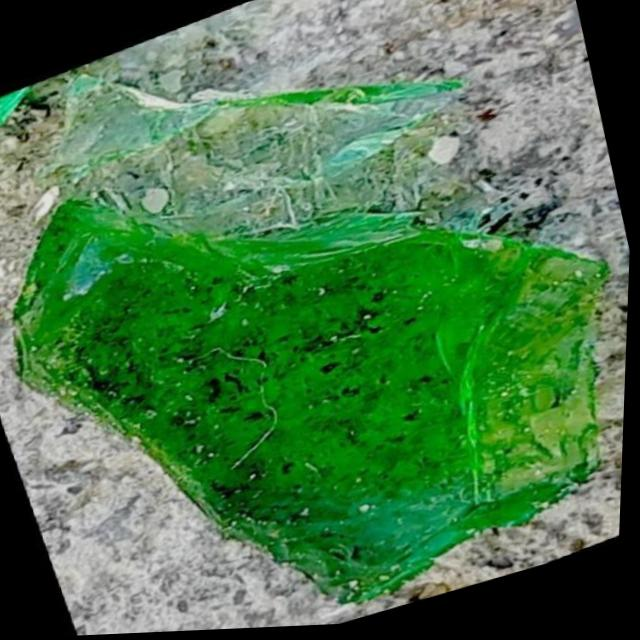Dry: (114, 146, 635, 635), (84, 23, 473, 278)
